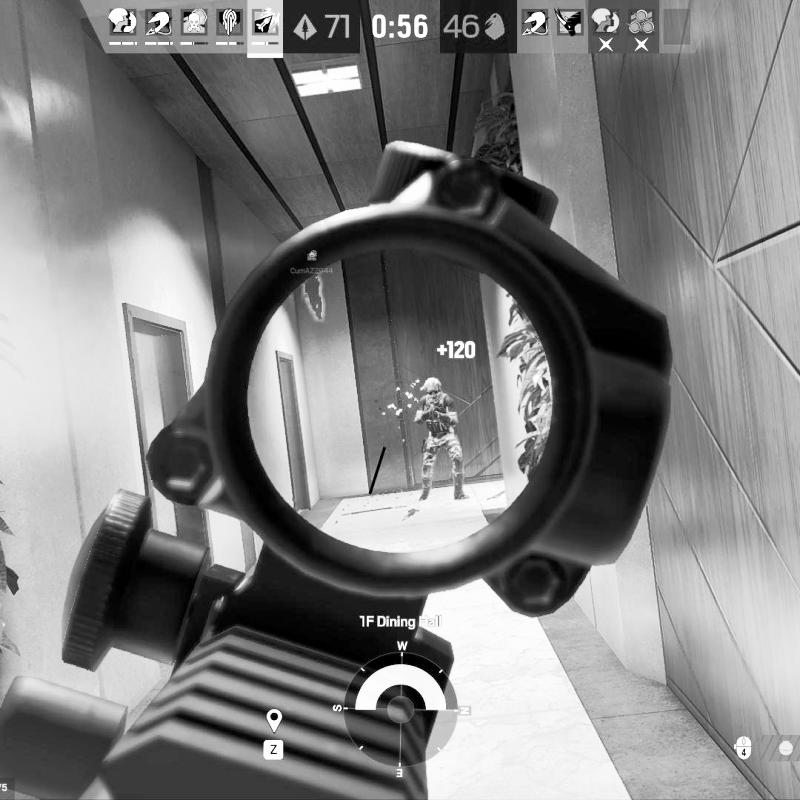Character: (404, 374, 474, 506)
Friend_label: (289, 250, 334, 275)
Head: (421, 376, 446, 400)
